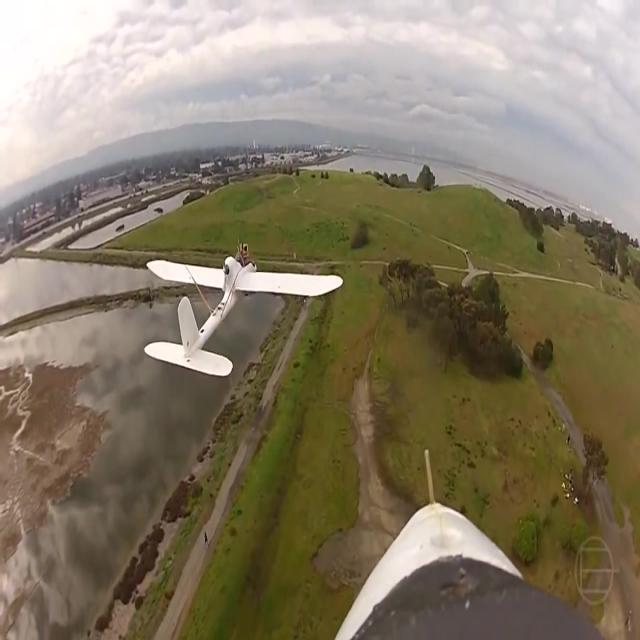iha: (145, 286, 342, 347)
